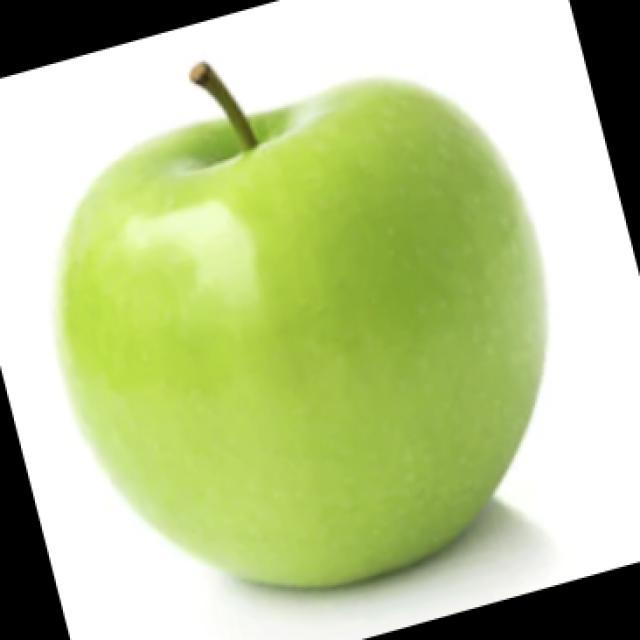Fresh Apple: (55, 74, 545, 608)
